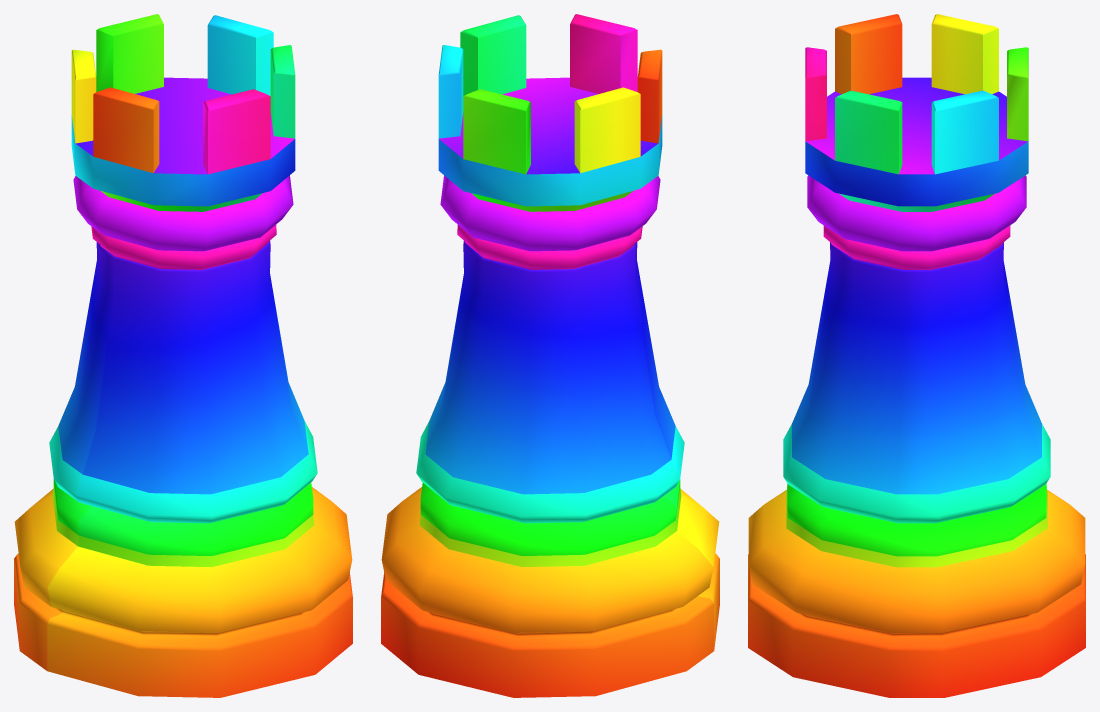
File: item-3-11.glb
The picture shows the model from 3 angles, left to right: view 1: azimuth 30°, elevation 25°; view 2: azimuth 150°, elevation 25°; view 3: azimuth 270°, elevation 25°; orthographic projection.
Parts seen in each view (by area): view 1: BlackTower; view 2: BlackTower; view 3: BlackTower.
Part boxes in pixels (box(x1,y1,x2,y2)): BlackTower: box(14, 14, 352, 697); BlackTower: box(381, 14, 719, 697); BlackTower: box(748, 14, 1085, 697).
Size of the model in its own units: 0.092 by 0.1651 by 0.0897.
1 material, 1 textured.
